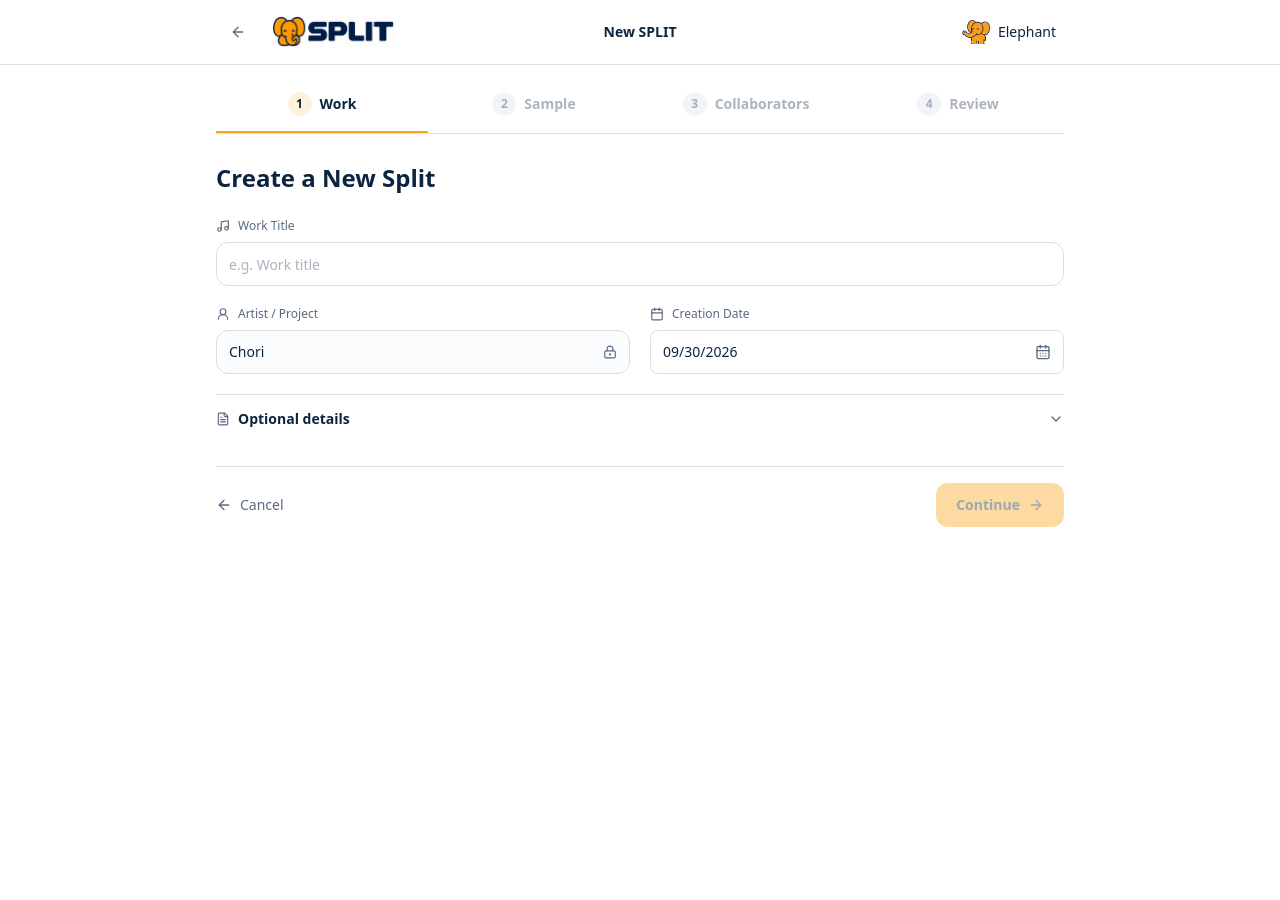
split creation completion › ends the new-work wizard at review with separate draft and invite actions, not a preview
In the field with placeholder "e.g. Work title": x=640, y=264 [216,242,1064,286], type "New session"
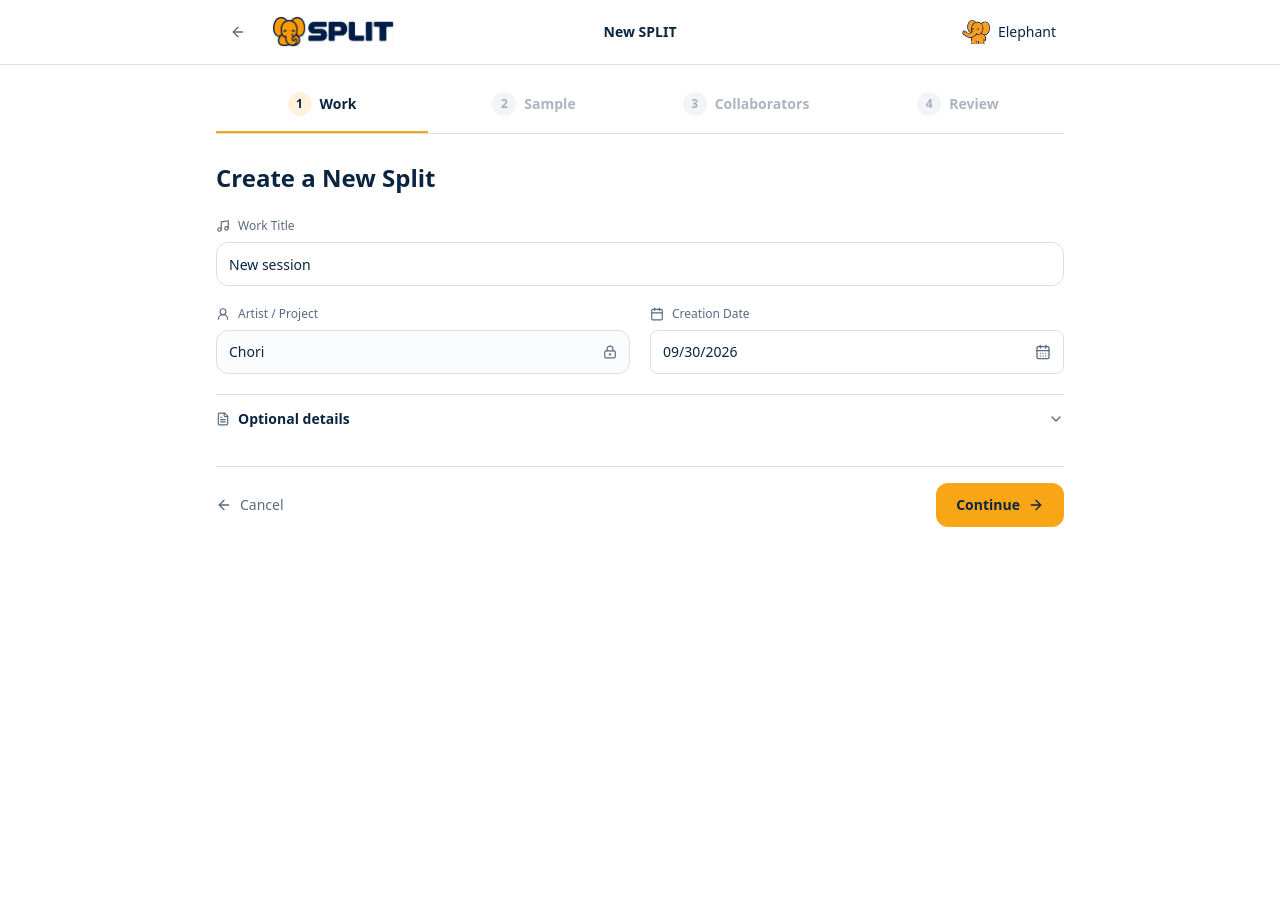
Click the button "Continue": x=1000, y=505 [936,483,1064,527]
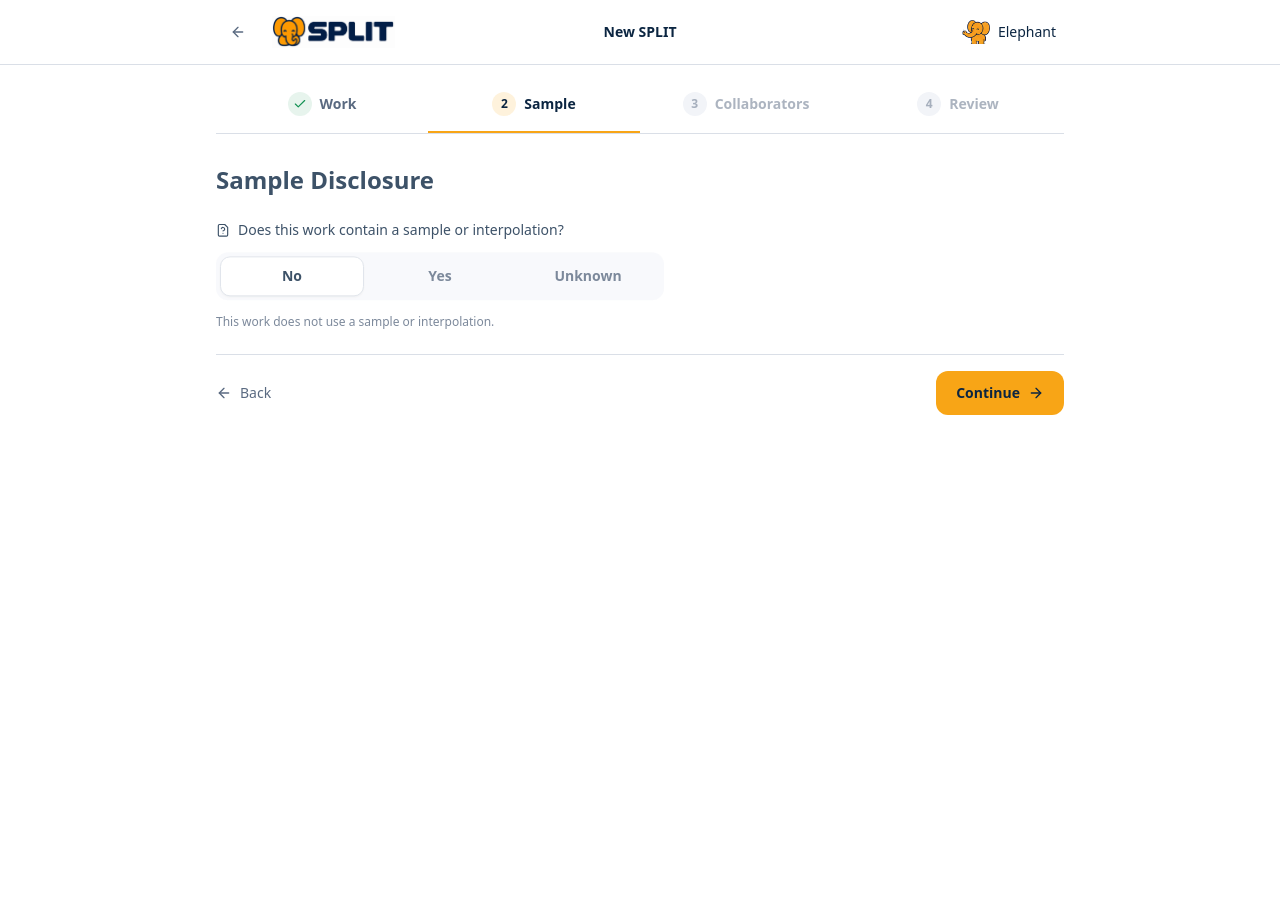
Click the button "Continue": x=1000, y=393 [936,371,1064,415]
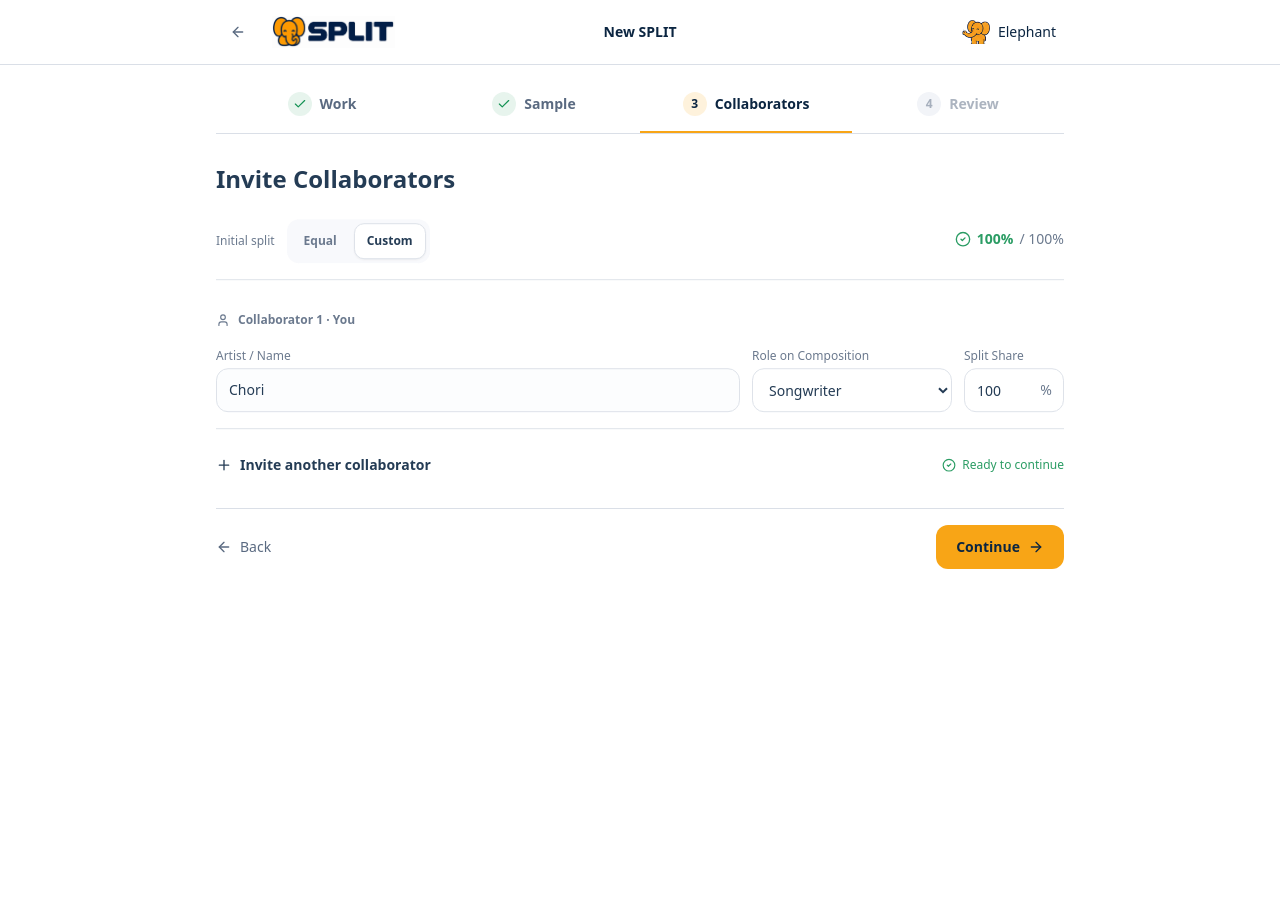
Click the button "Continue": x=1000, y=547 [936,525,1064,569]
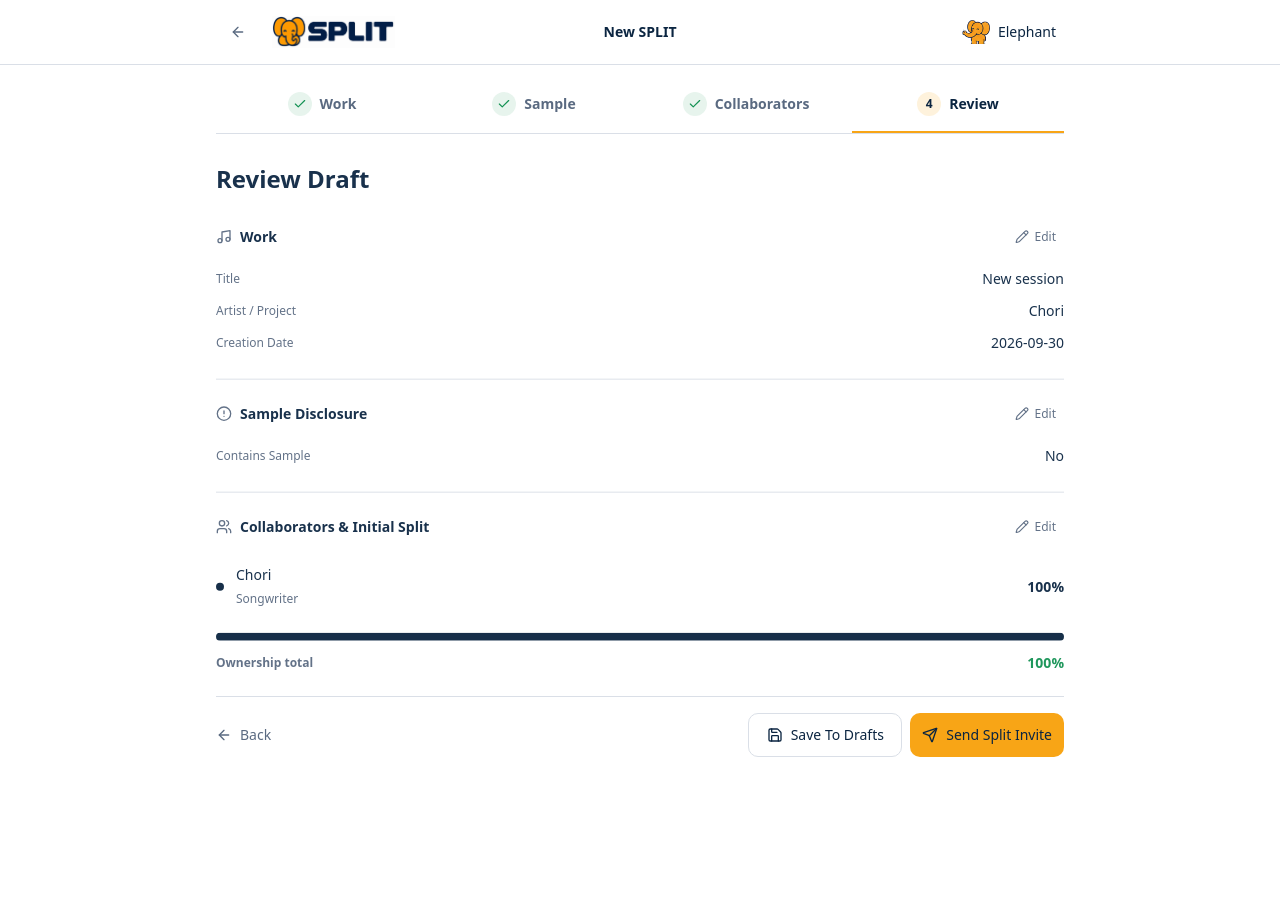
Check: the heading "Review Draft" is shown, box [216,161,369,194]
Check: the button "Save To Drafts" is enabled, box [748,713,902,757]
Check: the button "Send Split Invite" is enabled, box [910,713,1064,757]
